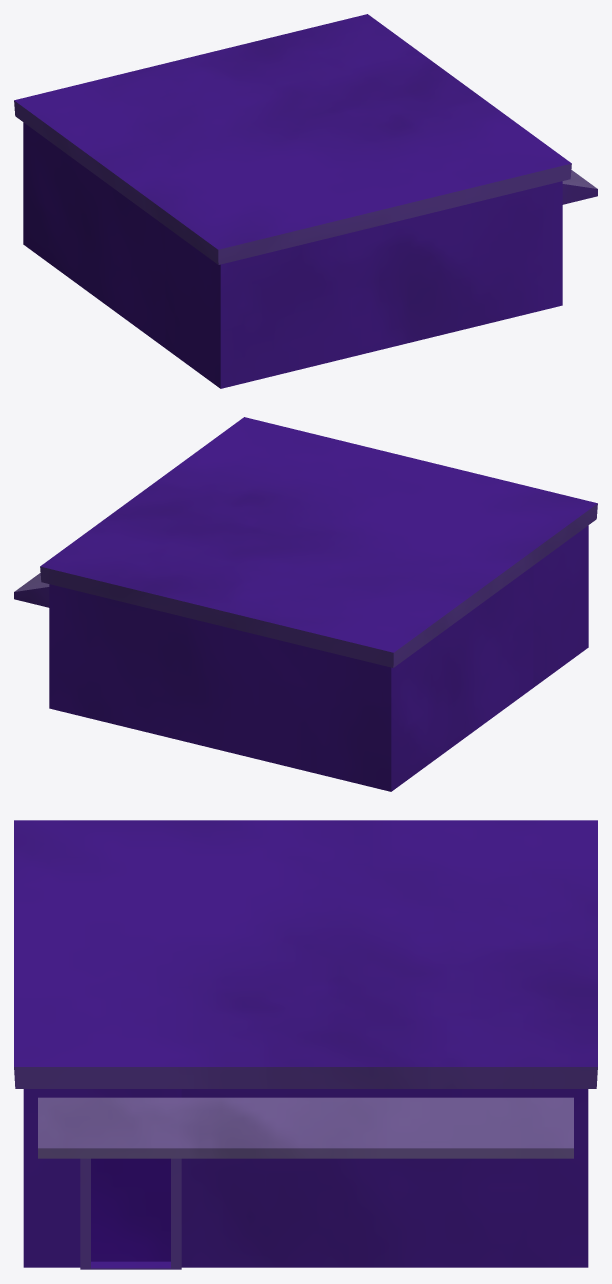
Rendered from SM_ModularBottomBuilding2.fbx.
3 views of the same model, one above another, from view 1: azimuth 30°, elevation 25°; view 2: azimuth 150°, elevation 25°; view 3: azimuth 270°, elevation 25° (orthographic). The views are drawn at different scales.
Visible parts, largest first — view 1: BottomBuilding2; view 2: BottomBuilding2; view 3: BottomBuilding2.
Part boxes in pixels (bbox=[...]): BottomBuilding2: bbox=[14, 14, 597, 388]; BottomBuilding2: bbox=[14, 417, 597, 791]; BottomBuilding2: bbox=[14, 820, 597, 1269].
Size of the model in its own units: 11.35 by 4 by 10.35.
